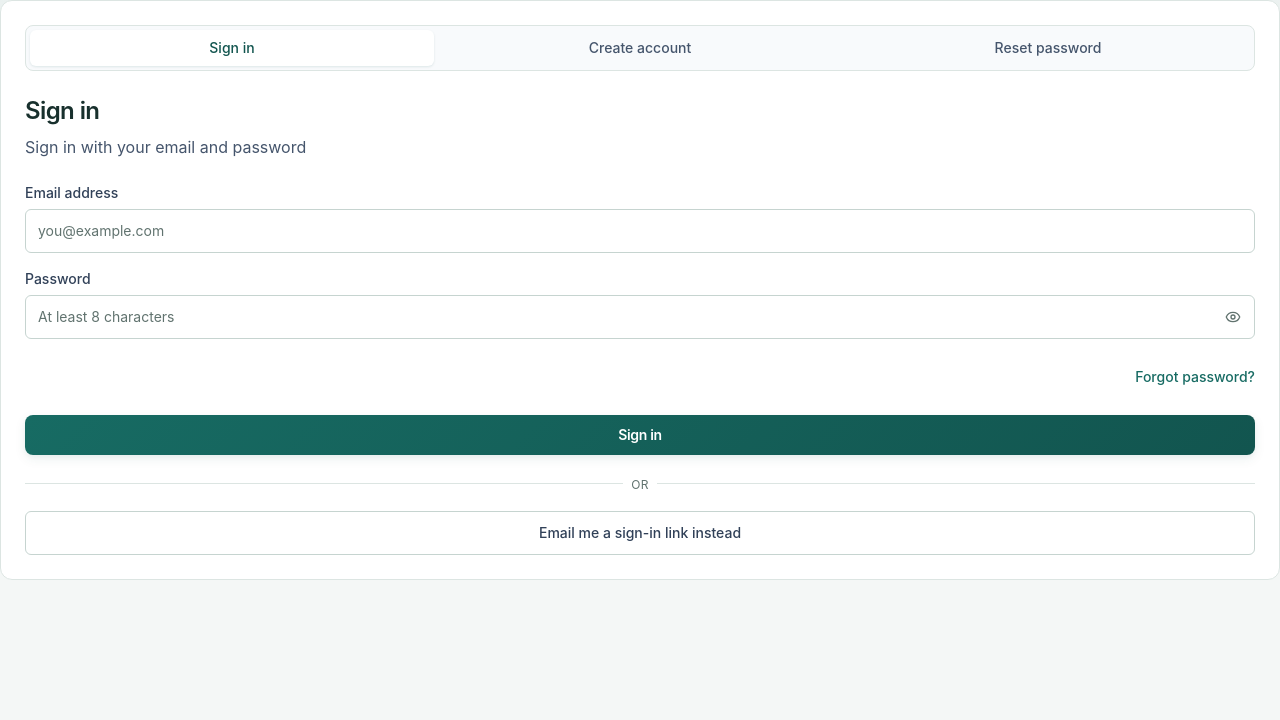
Test case: AuthPanel › surfaces server errors from sign-in
Type "user@example.com" into the field labelled "Email address" at (640, 231), box [25,209,1255,253]
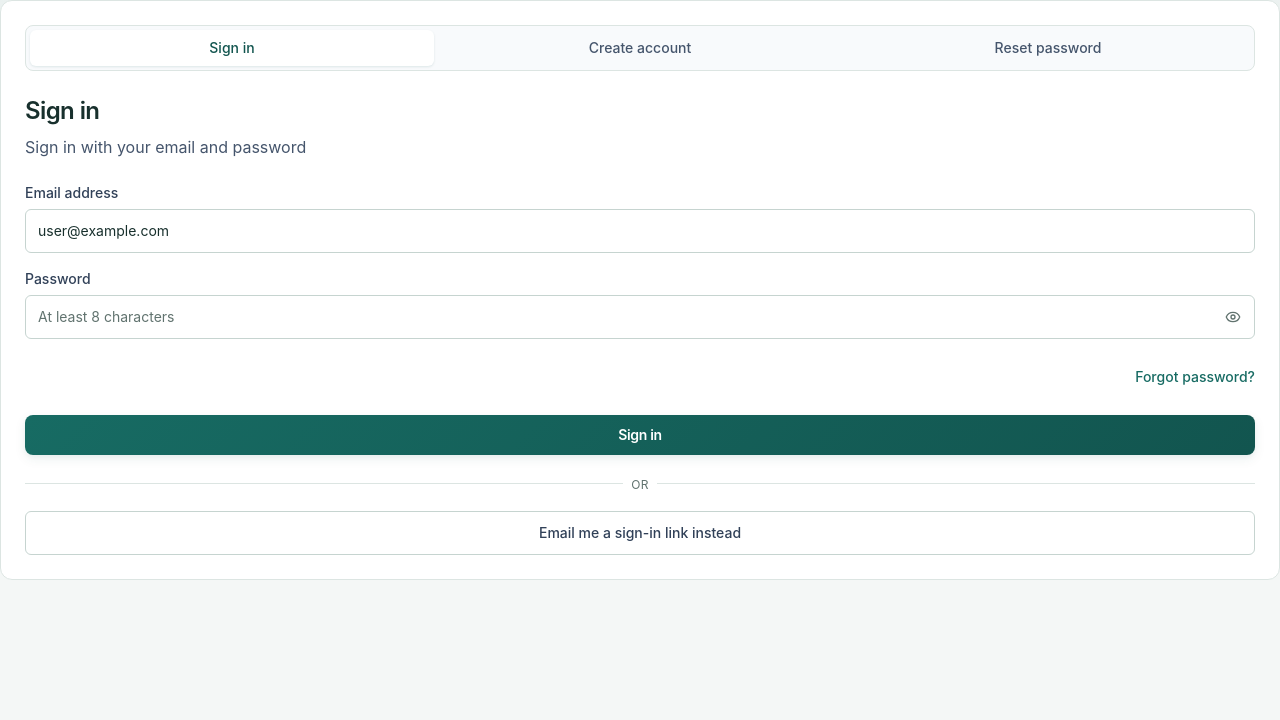
Type "wrongpass" into the password field labelled "Password" at (640, 317), box [25,295,1255,339]
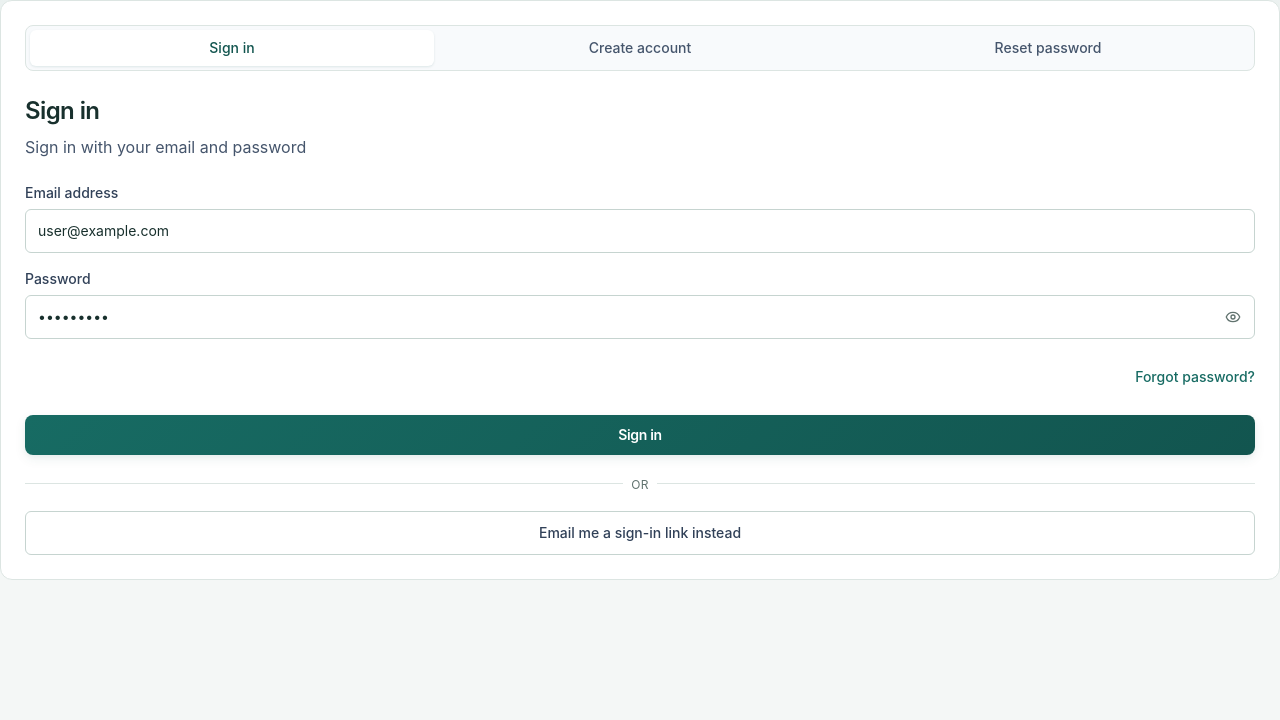
Click the button "Sign in" at (640, 435), box [25,415,1255,455]
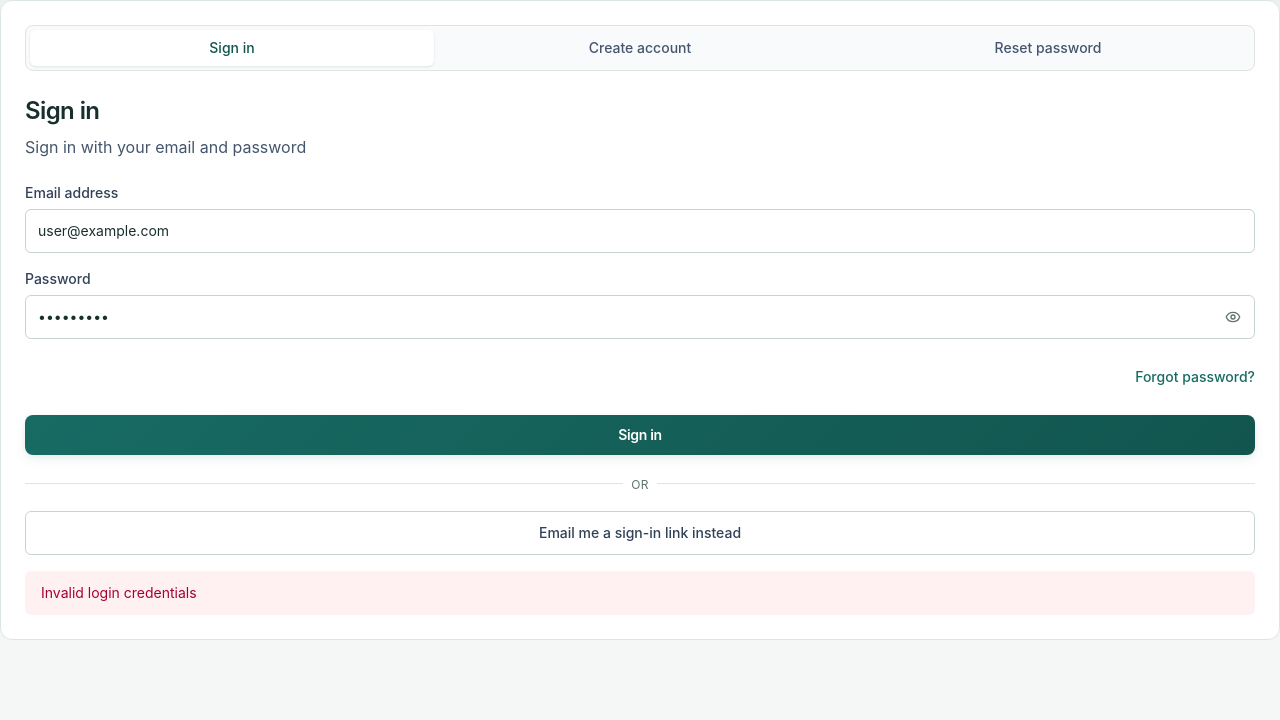
Expected: the message reads "Invalid login credentials", [41,584,197,601]
